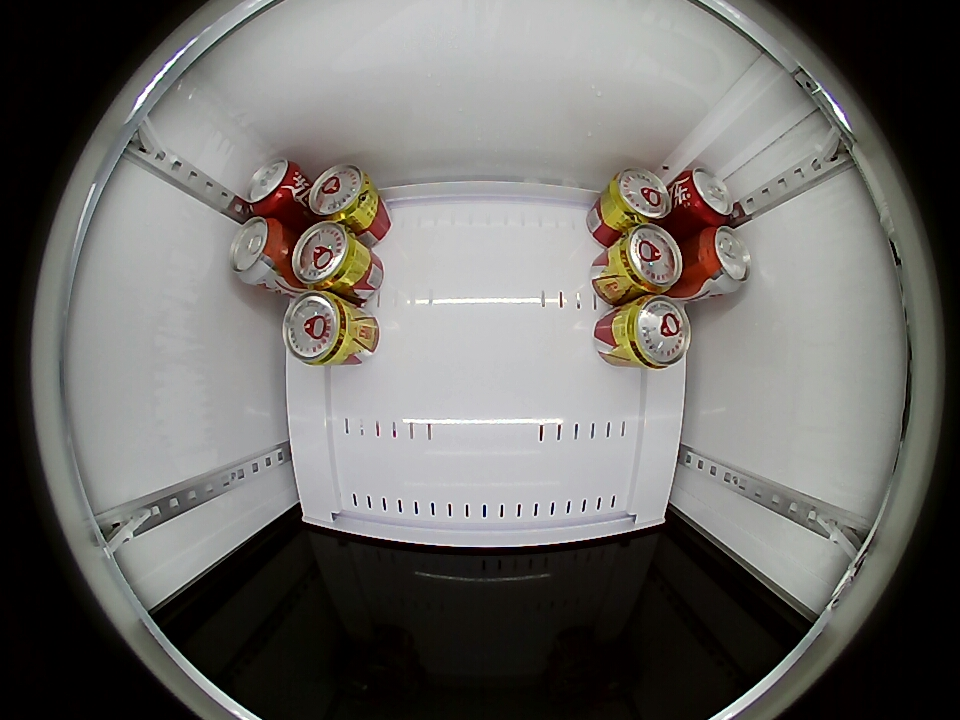dongpeng: (618, 296, 692, 370), (282, 291, 355, 365), (291, 221, 361, 291), (614, 224, 683, 295), (308, 164, 375, 225), (604, 166, 672, 226)
jianlibao: (229, 216, 286, 286), (697, 225, 752, 294)
kele: (676, 167, 736, 225), (244, 157, 303, 215)
